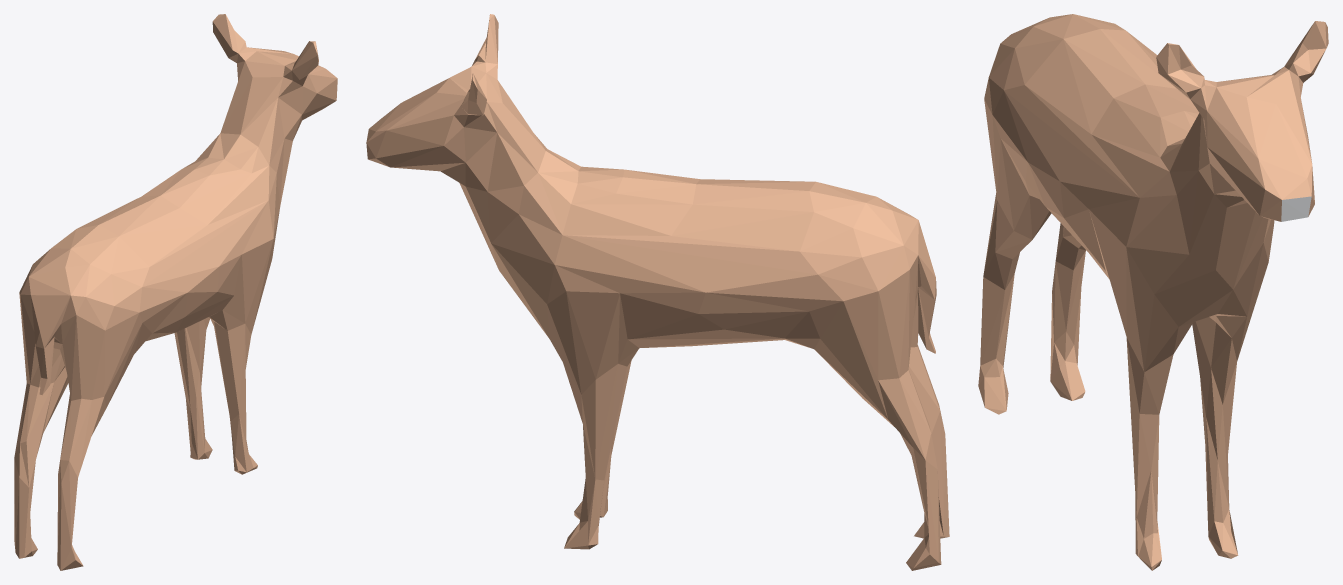
File: doe.glb
3 renders of one model, left to right at view 1: azimuth 30°, elevation 25°; view 2: azimuth 150°, elevation 25°; view 3: azimuth 270°, elevation 25°, orthographic. The views are drawn at different scales.
Parts seen in each view (by area): view 1: Plane.010_0; view 2: Plane.010_0; view 3: Plane.010_0.
Boxes of the visible parts, <box> form: Plane.010_0: <box>14,14,337,570</box>; Plane.010_0: <box>366,14,949,570</box>; Plane.010_0: <box>978,14,1328,570</box>.
Bounding box in the file's own units: 11.93 × 11.7 × 6.49.
1 material, 1 textured.
